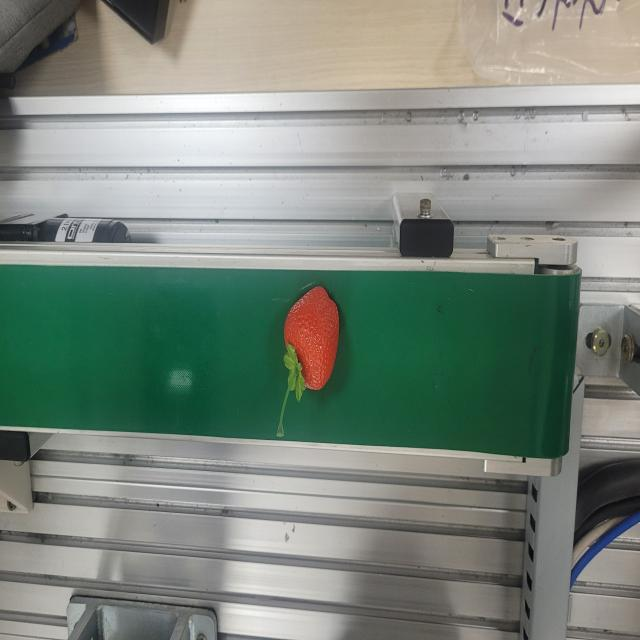Large Ripe Strawberry: (275, 282, 340, 437)
